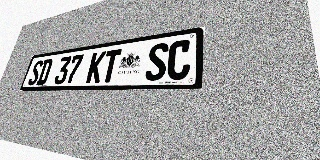3: (53, 56, 72, 84)
7: (64, 54, 84, 84)
C: (166, 39, 192, 80)
D: (36, 59, 54, 85)
K: (85, 51, 106, 83)
S: (144, 42, 169, 81), (27, 60, 44, 85)
T: (100, 49, 122, 83)
